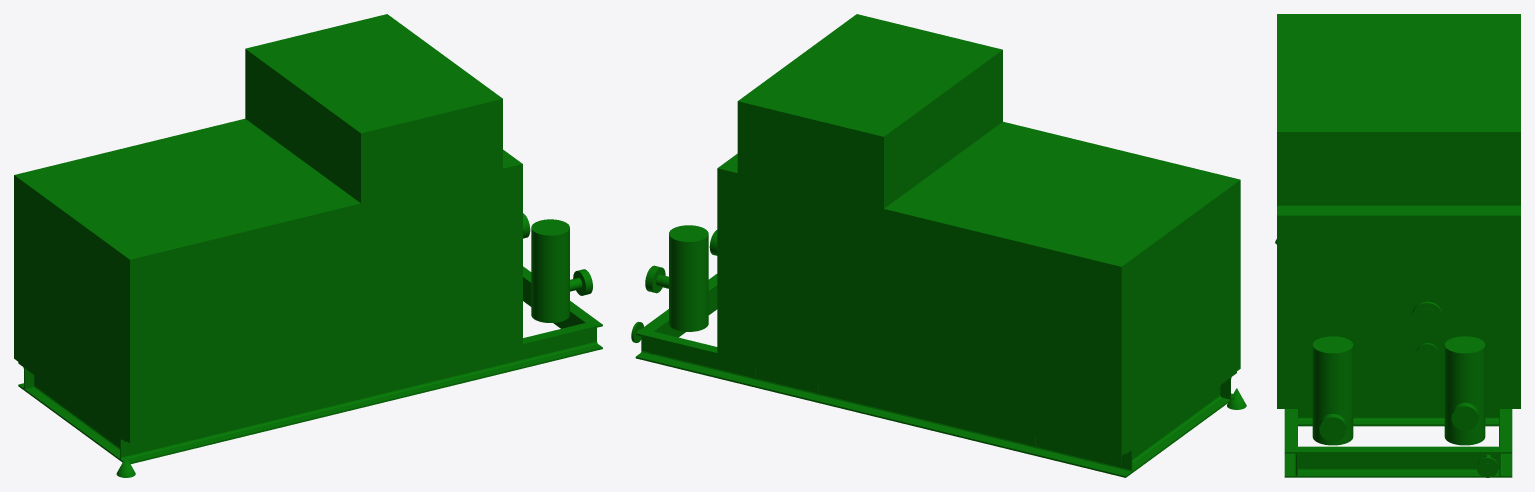
The model's file is Image-1710907553219-2281220826592_27-CZ50.fbx.
3 views of the same model, side by side, from view 1: azimuth 30°, elevation 25°; view 2: azimuth 150°, elevation 25°; view 3: azimuth 270°, elevation 25° (orthographic). The views are drawn at different scales.
Visible parts, largest first — view 1: BOX 1 of EQUIPMENT /27-CZ50, BOX 2 of EQUIPMENT /27-CZ50, EXTRUSION 2 of EQUIPMENT /27-CZ50, CYLINDER 1 of EQUIPMENT /27-CZ50, EXTRUSION 6 of EQUIPMENT /27-CZ50, EXTRUSION 1 of EQUIPMENT /27-CZ50; view 2: BOX 1 of EQUIPMENT /27-CZ50, BOX 2 of EQUIPMENT /27-CZ50, EXTRUSION 7 of EQUIPMENT /27-CZ50, CYLINDER 2 of EQUIPMENT /27-CZ50, EXTRUSION 6 of EQUIPMENT /27-CZ50, EXTRUSION 1 of EQUIPMENT /27-CZ50; view 3: BOX 1 of EQUIPMENT /27-CZ50, BOX 2 of EQUIPMENT /27-CZ50, EXTRUSION 1 of EQUIPMENT /27-CZ50, CYLINDER 1 of EQUIPMENT /27-CZ50, CYLINDER 2 of EQUIPMENT /27-CZ50, EXTRUSION 3 of EQUIPMENT /27-CZ50, EXTRUSION 2 of EQUIPMENT /27-CZ50, EXTRUSION 7 of EQUIPMENT /27-CZ50, /27-CZ50/N255, /27-CZ50/N251, /27-CZ50/N253, /27-CZ50/N256 (+1 smaller).
Boxes of the visible parts, <box> form: BOX 1 of EQUIPMENT /27-CZ50: <box>14,118,522,443</box>; BOX 2 of EQUIPMENT /27-CZ50: <box>245,14,502,203</box>; EXTRUSION 2 of EQUIPMENT /27-CZ50: <box>120,320,602,463</box>; CYLINDER 1 of EQUIPMENT /27-CZ50: <box>531,219,569,322</box>; EXTRUSION 6 of EQUIPMENT /27-CZ50: <box>24,366,120,460</box>; EXTRUSION 1 of EQUIPMENT /27-CZ50: <box>523,266,596,328</box>; BOX 1 of EQUIPMENT /27-CZ50: <box>717,121,1240,455</box>; BOX 2 of EQUIPMENT /27-CZ50: <box>737,14,1002,208</box>; EXTRUSION 7 of EQUIPMENT /27-CZ50: <box>635,329,1132,477</box>; CYLINDER 2 of EQUIPMENT /27-CZ50: <box>669,225,708,331</box>; EXTRUSION 6 of EQUIPMENT /27-CZ50: <box>1120,376,1230,473</box>; EXTRUSION 1 of EQUIPMENT /27-CZ50: <box>642,274,717,353</box>; BOX 1 of EQUIPMENT /27-CZ50: <box>1277,14,1520,408</box>; BOX 2 of EQUIPMENT /27-CZ50: <box>1277,59,1520,205</box>; EXTRUSION 1 of EQUIPMENT /27-CZ50: <box>1297,446,1500,477</box>; CYLINDER 1 of EQUIPMENT /27-CZ50: <box>1312,336,1353,445</box>; CYLINDER 2 of EQUIPMENT /27-CZ50: <box>1444,336,1485,445</box>; EXTRUSION 3 of EQUIPMENT /27-CZ50: <box>1298,409,1498,426</box>; EXTRUSION 2 of EQUIPMENT /27-CZ50: <box>1284,409,1297,477</box>; EXTRUSION 7 of EQUIPMENT /27-CZ50: <box>1499,409,1512,477</box>; /27-CZ50/N255: <box>1412,301,1442,330</box>; /27-CZ50/N251: <box>1451,402,1478,430</box>; /27-CZ50/N253: <box>1319,413,1346,441</box>; /27-CZ50/N256: <box>1476,454,1498,477</box>.
Bounding box in the file's own units: 2.97 × 1.21 × 1.64.
